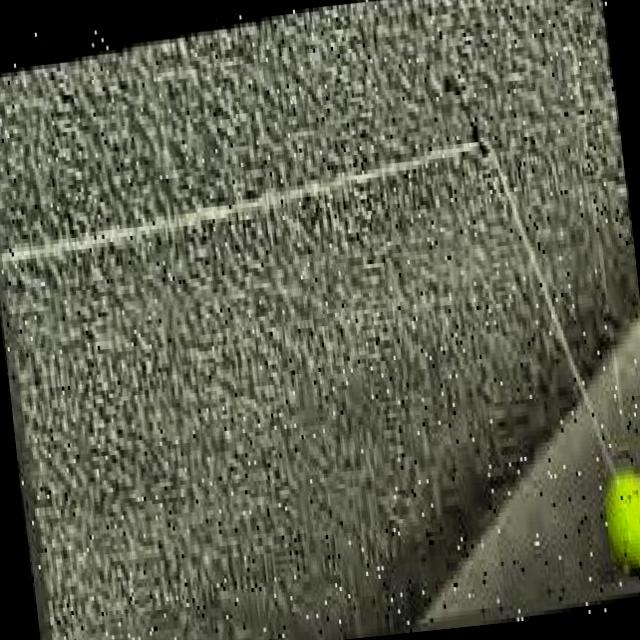Tennis Ball: (599, 462, 640, 573)
